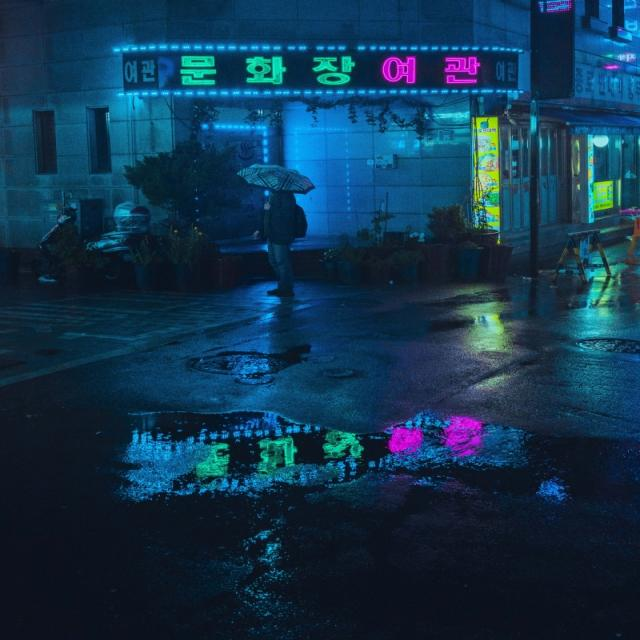pothole: (37, 410, 637, 507)
